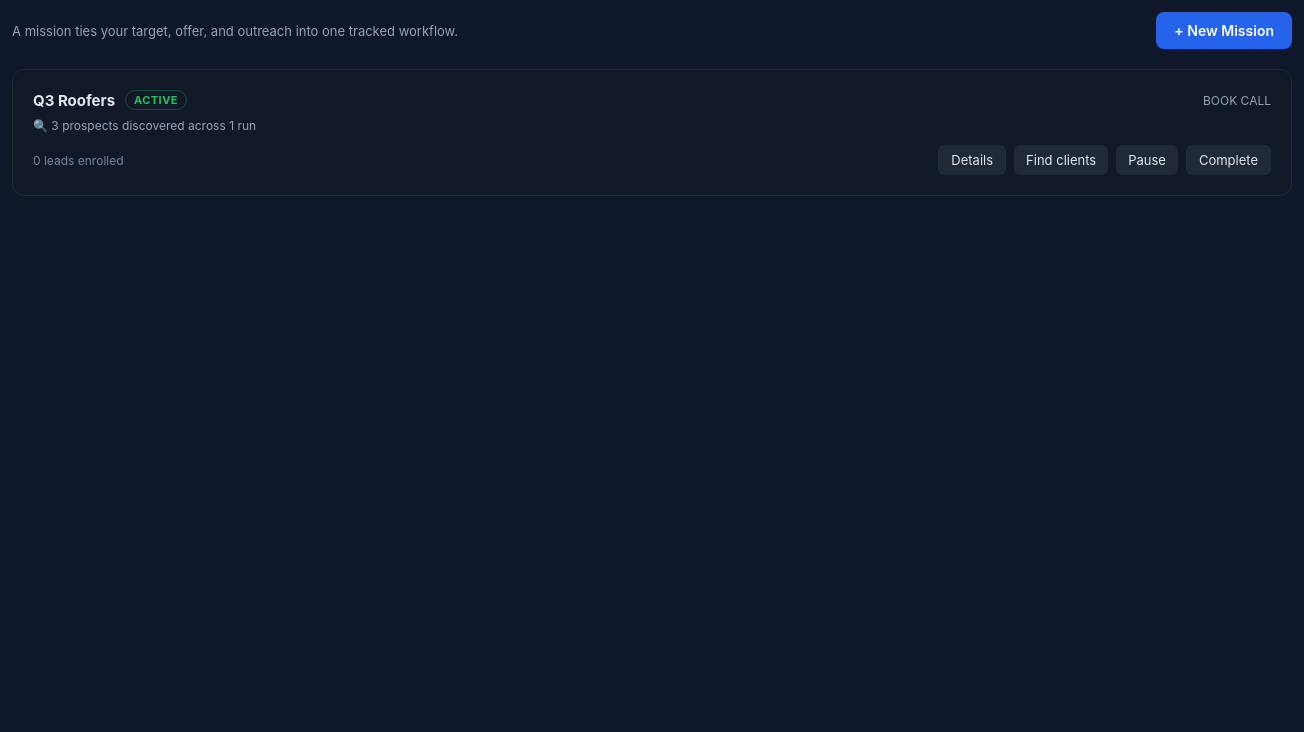
Scenario: MissionsView control plane › the guided stepper reports completion when the whole loop is done
Check: the text "Q3 Roofers" is shown, box [33,90,115,110]
Click the button "Details".
click(972, 160)  # box [938,145,1006,175]
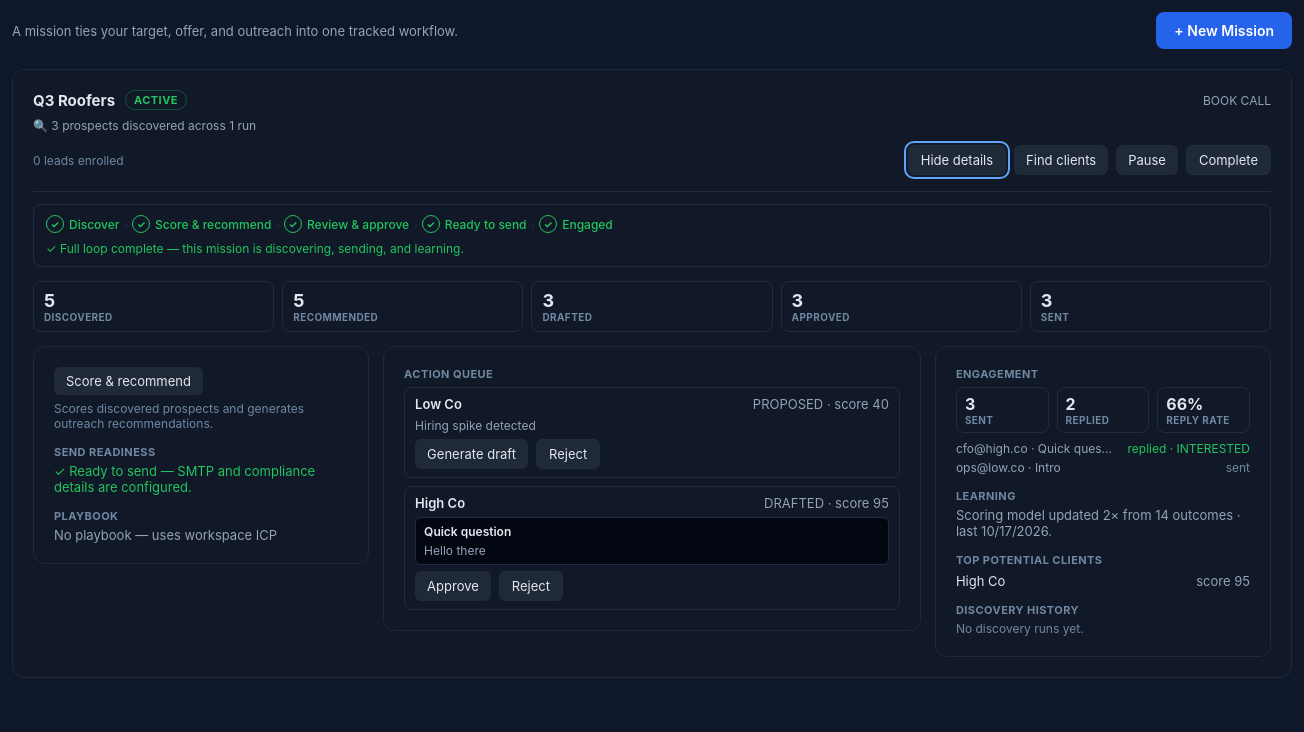
Check: the text "Send readiness" is shown, box [54,445,156,459]
Check: the text "Full loop complete" is shown, box [46,241,464,256]
